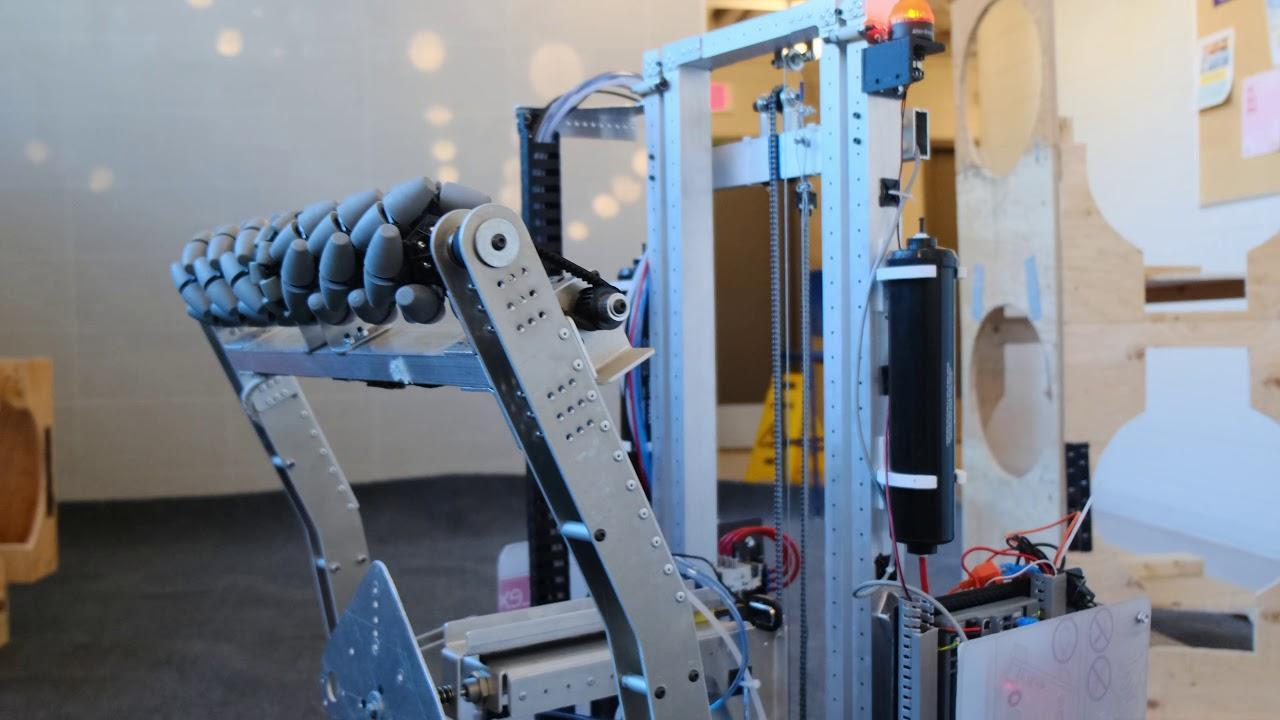robot: (158, 0, 1167, 720)
